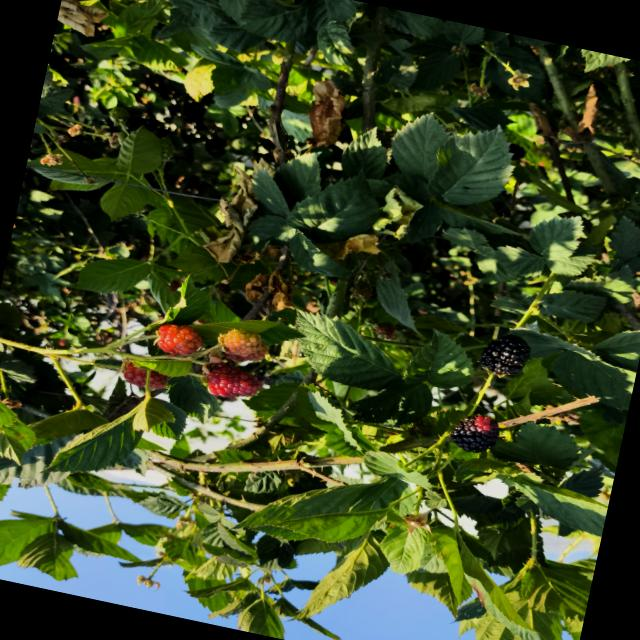maduro: (480, 335, 530, 375)
marron: (450, 414, 499, 453)
naranja: (206, 363, 261, 397), (218, 329, 267, 361), (156, 323, 202, 355), (121, 359, 169, 389)
